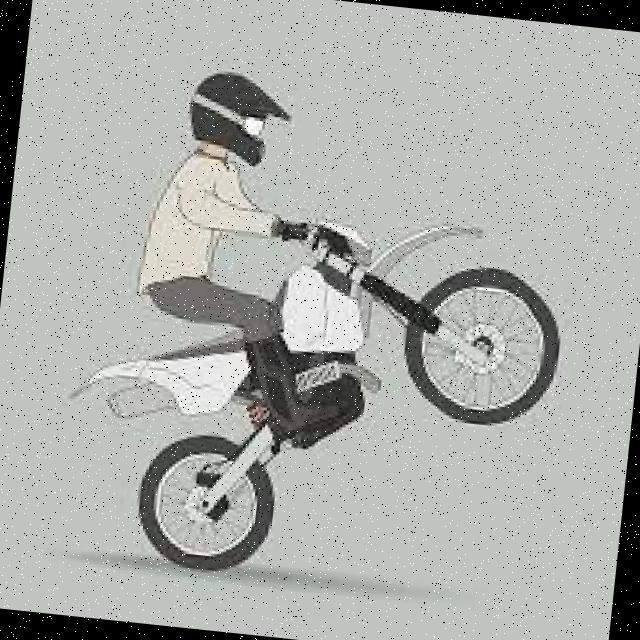Wheeling: (101, 59, 590, 624)
